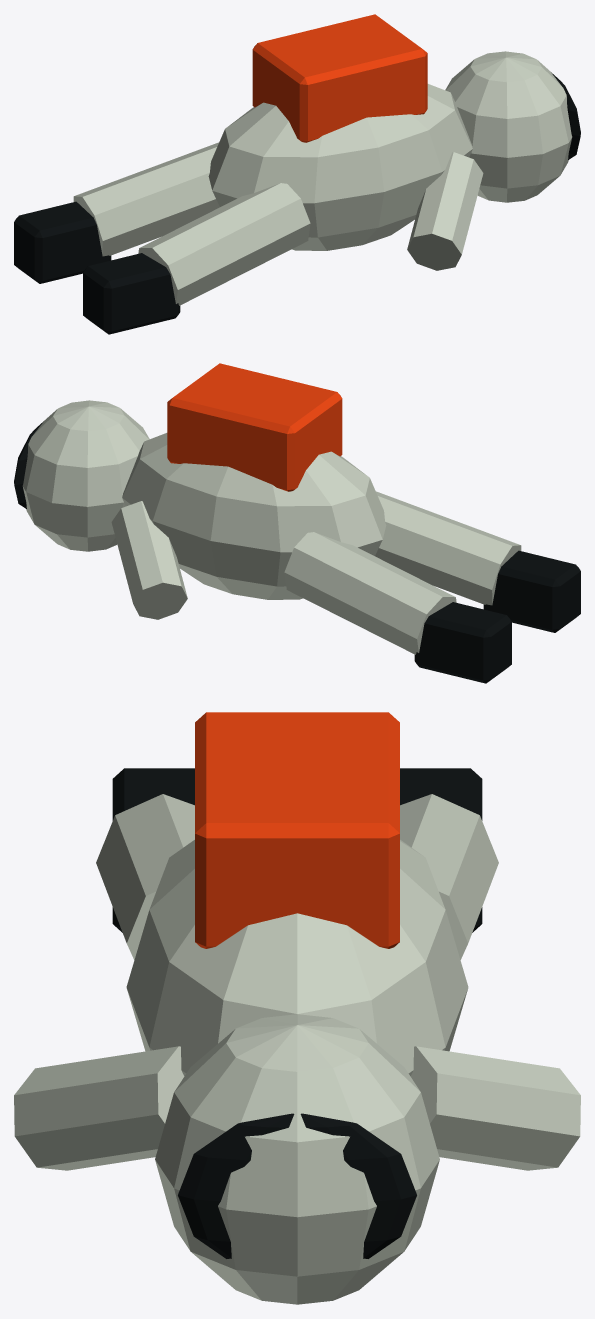
Rendered from SM_MP_Empty_Suit.fbx.
The picture shows the model from 3 angles, top to bottom: view 1: azimuth 30°, elevation 25°; view 2: azimuth 150°, elevation 25°; view 3: azimuth 270°, elevation 25°; orthographic projection. The views are drawn at different scales.
Visible parts, largest first — view 1: SM_MP_Empty_Suit; view 2: SM_MP_Empty_Suit; view 3: SM_MP_Empty_Suit.
Part boxes in pixels (x1,y1,x2,y2): SM_MP_Empty_Suit: [14, 14, 580, 334]; SM_MP_Empty_Suit: [14, 363, 580, 683]; SM_MP_Empty_Suit: [14, 712, 580, 1304].
Size of the model in its own units: 199 by 99.45 by 72.5.
1 material, 1 textured.
